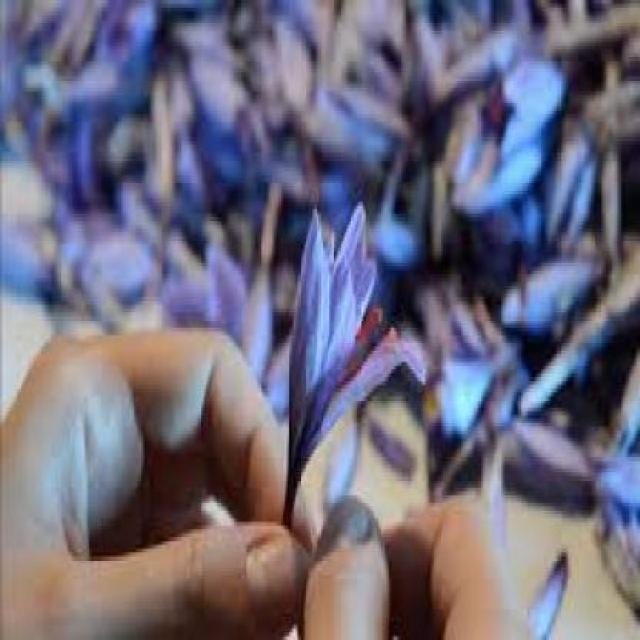Flower: (287, 202, 425, 495)
